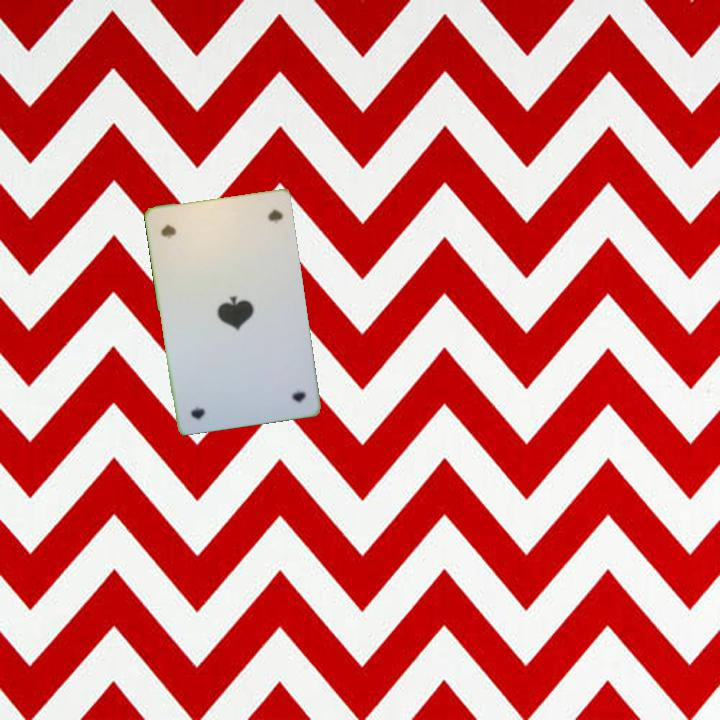s_a.png: (154, 206, 228, 273), (237, 350, 311, 416)
